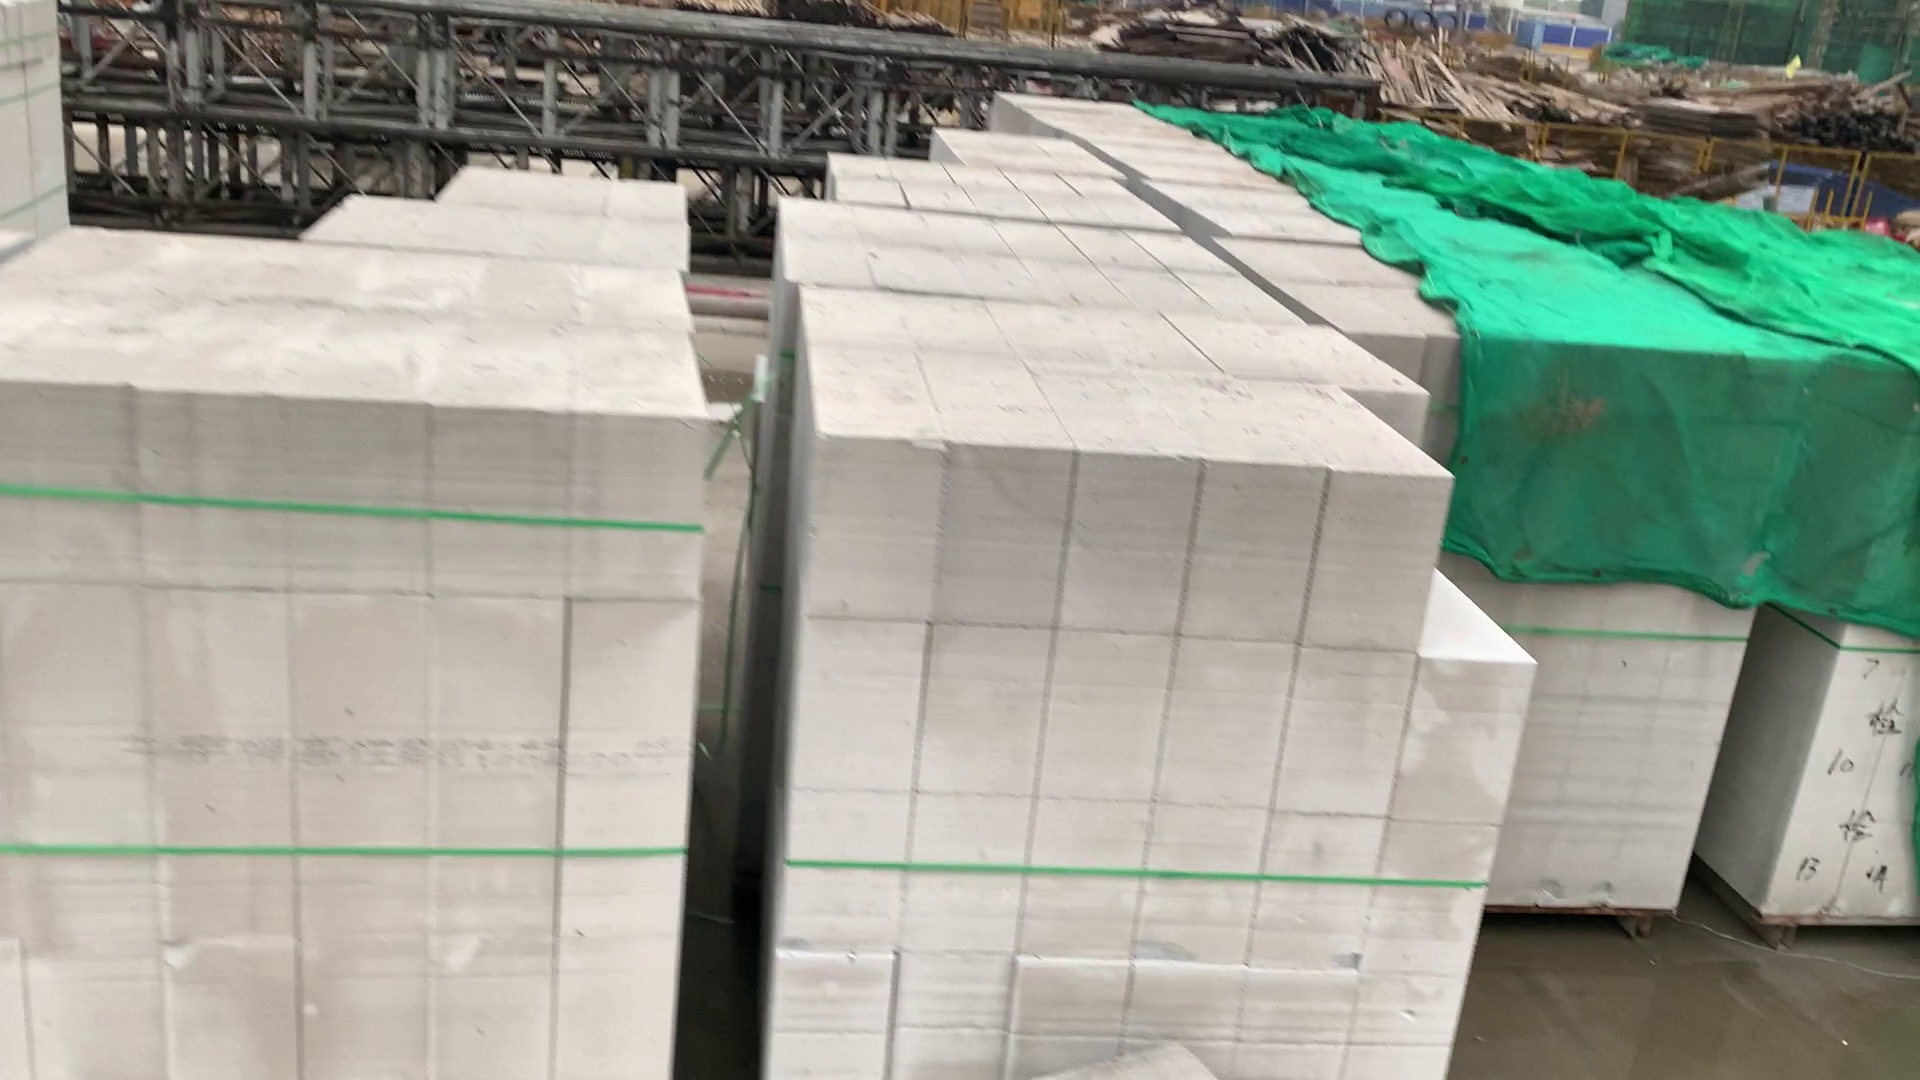brickwork: (3, 231, 682, 1080), (791, 293, 1501, 1080), (1726, 380, 1919, 927), (777, 198, 1257, 301), (320, 158, 699, 268), (1215, 235, 1477, 349), (829, 145, 1170, 225), (3, 8, 83, 229), (1160, 181, 1365, 251), (942, 131, 1122, 175), (992, 96, 1184, 135), (1098, 138, 1261, 177)
